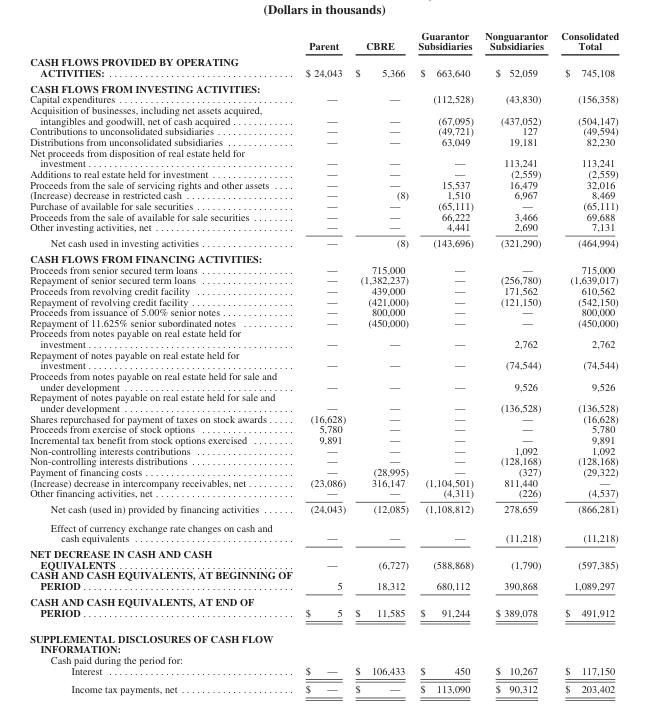table: (29, 29, 618, 694)
table column: (29, 29, 298, 694), (478, 29, 553, 694), (412, 29, 478, 694), (553, 29, 618, 694), (349, 29, 412, 694), (298, 29, 349, 694)
table column header: (29, 29, 618, 53)
table projected row header: (29, 624, 618, 654), (29, 80, 618, 93), (29, 250, 618, 263), (29, 654, 618, 664)
table row: (29, 593, 618, 624), (29, 624, 618, 654), (29, 517, 618, 545), (29, 53, 618, 80), (29, 29, 618, 53), (29, 545, 618, 569), (29, 569, 618, 593), (29, 146, 618, 168), (29, 348, 618, 370), (29, 104, 618, 125), (29, 327, 618, 348), (29, 370, 618, 391), (29, 391, 618, 412), (29, 500, 618, 517), (29, 234, 618, 250), (29, 664, 618, 679), (29, 679, 618, 694), (29, 80, 618, 93), (29, 221, 618, 234), (29, 250, 618, 263), (29, 487, 618, 500), (29, 93, 618, 104), (29, 125, 618, 136), (29, 178, 618, 189), (29, 189, 618, 200), (29, 210, 618, 221), (29, 263, 618, 274), (29, 274, 618, 285), (29, 295, 618, 306), (29, 316, 618, 327), (29, 412, 618, 423), (29, 423, 618, 434), (29, 444, 618, 455), (29, 455, 618, 466), (29, 476, 618, 487), (29, 136, 618, 146), (29, 168, 618, 178), (29, 200, 618, 210), (29, 285, 618, 295), (29, 306, 618, 316), (29, 434, 618, 444), (29, 466, 618, 476), (29, 654, 618, 664)
